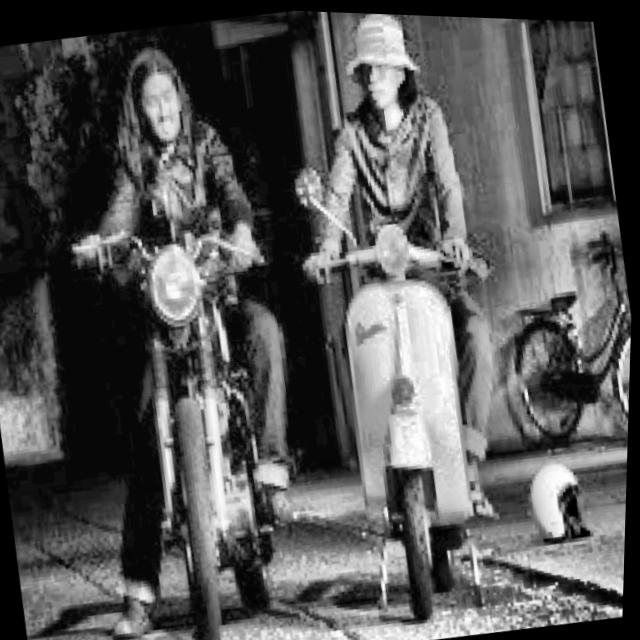motorcycle: (275, 135, 562, 629), (49, 180, 333, 640)
